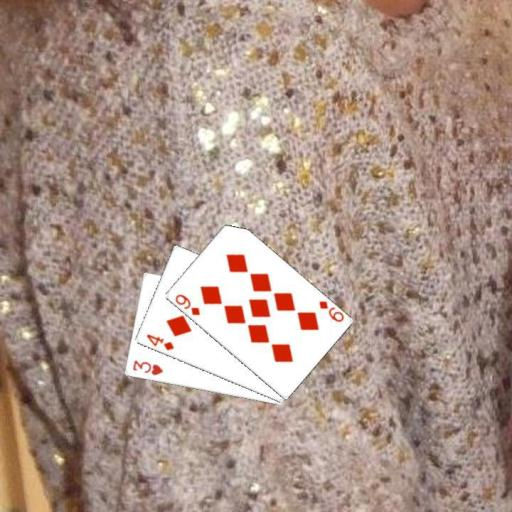3H: (130, 357, 165, 377)
4D: (143, 331, 175, 352)
9D: (315, 297, 345, 324), (172, 291, 202, 317)
